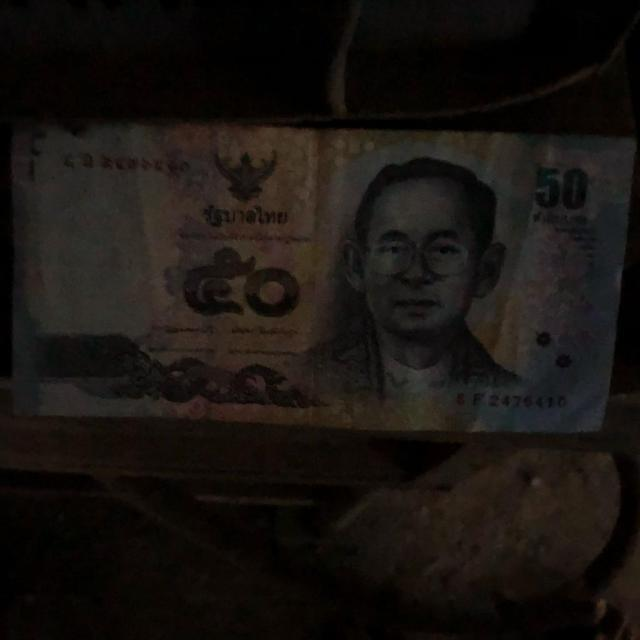THAI50: (12, 122, 634, 432)
